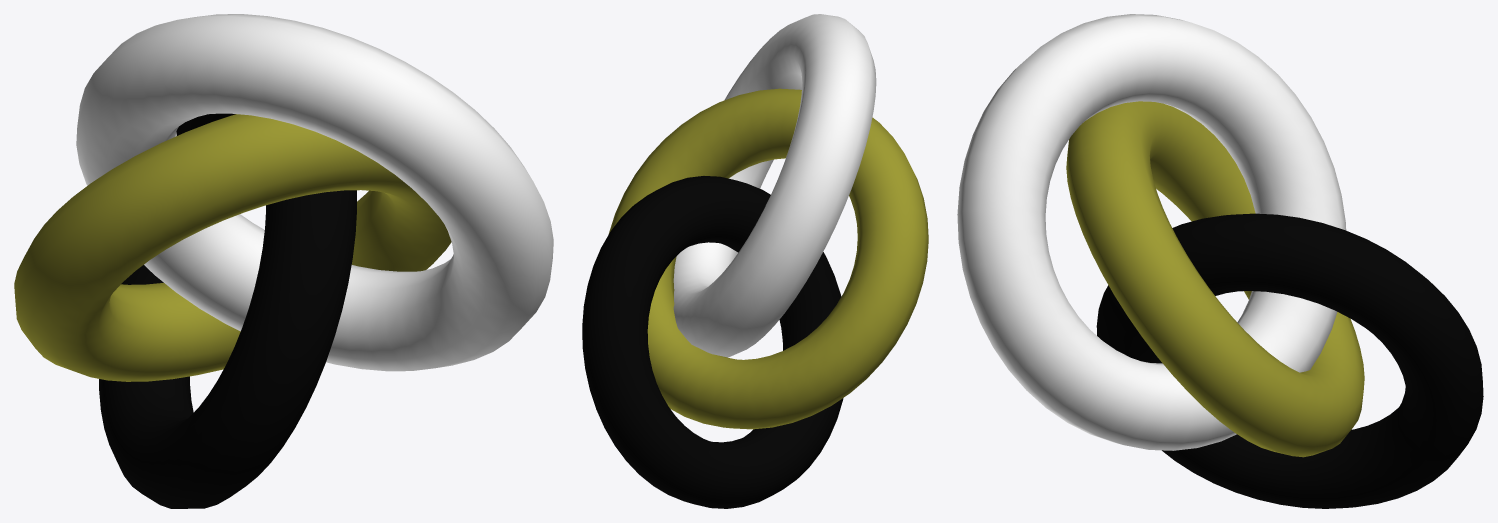
File: 3ddesign_wyb.glb
3 views of the same model, side by side, from view 1: azimuth 30°, elevation 25°; view 2: azimuth 150°, elevation 25°; view 3: azimuth 270°, elevation 25° (orthographic). The views are drawn at different scales.
Parts seen in each view (by area): view 1: Torus; view 2: Torus; view 3: Torus.
Boxes of the visible parts, box(x1,y1,x2,y2) form: Torus: box(14, 14, 553, 508); Torus: box(582, 14, 928, 508); Torus: box(957, 14, 1483, 508).
Size of the model in its own units: 2.65 by 3.34 by 3.31.
